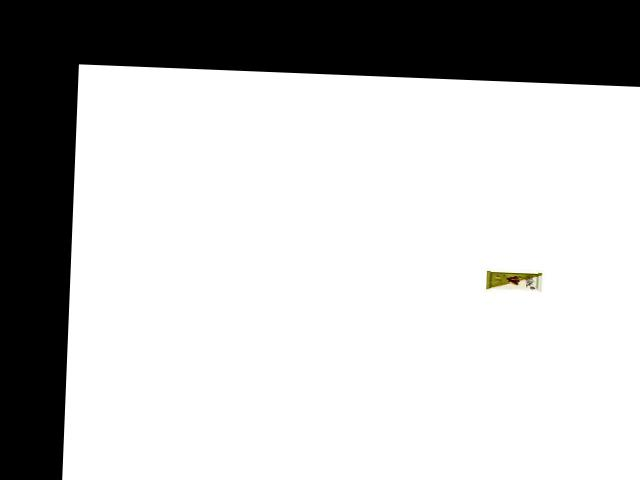chocolate: (483, 265, 546, 295)
